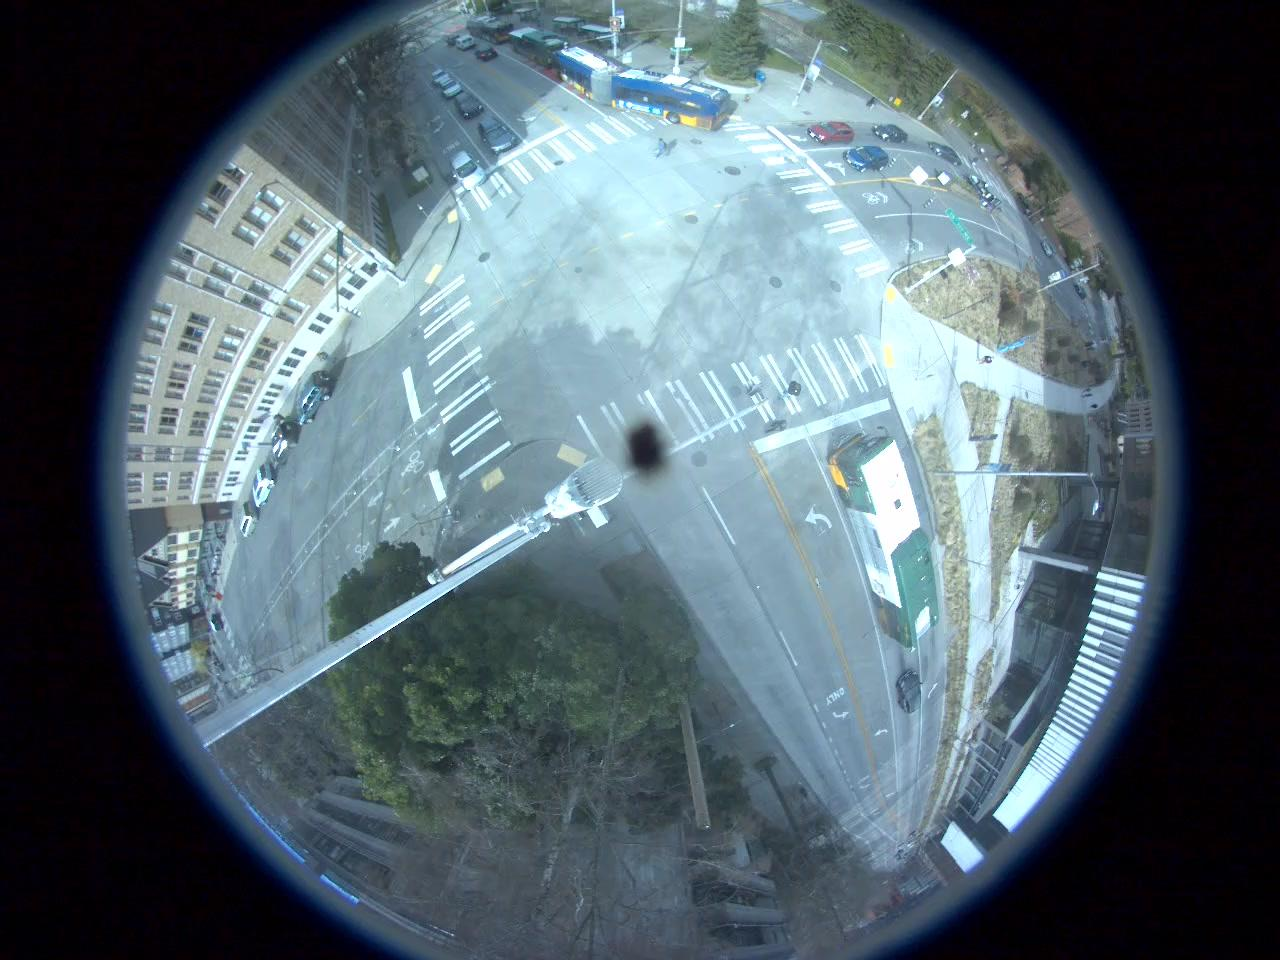bus: (830, 434, 936, 642), (560, 48, 730, 130), (508, 26, 568, 69), (466, 16, 514, 41)
car: (296, 372, 331, 424), (477, 116, 519, 154), (844, 142, 891, 172), (897, 667, 925, 717), (450, 151, 486, 188), (270, 422, 298, 468), (807, 118, 855, 142), (252, 465, 274, 507), (928, 140, 960, 167), (236, 503, 260, 539), (874, 119, 906, 142), (456, 94, 483, 118), (473, 46, 503, 66), (440, 75, 460, 101)
person: (763, 419, 792, 438), (780, 377, 802, 400), (974, 350, 999, 368), (652, 134, 671, 157)
